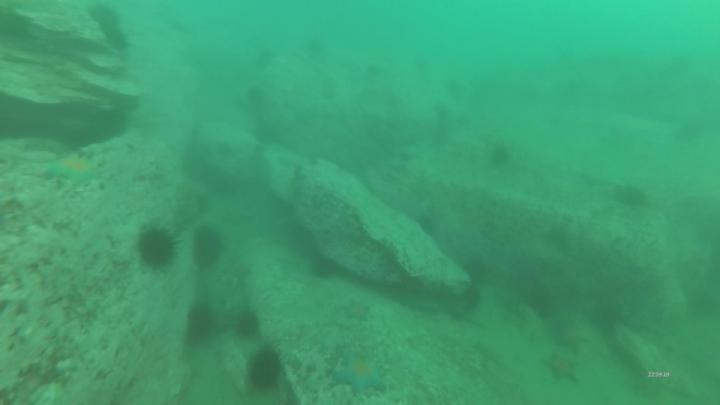echinus: (140, 230, 173, 266), (252, 350, 282, 385), (187, 304, 214, 341), (619, 180, 650, 210), (197, 231, 222, 265), (486, 142, 512, 168), (464, 258, 488, 282), (460, 287, 484, 310), (315, 257, 338, 280), (237, 316, 258, 337)
starfish: (333, 353, 388, 396), (47, 155, 102, 186), (543, 354, 580, 383), (341, 300, 371, 322)
